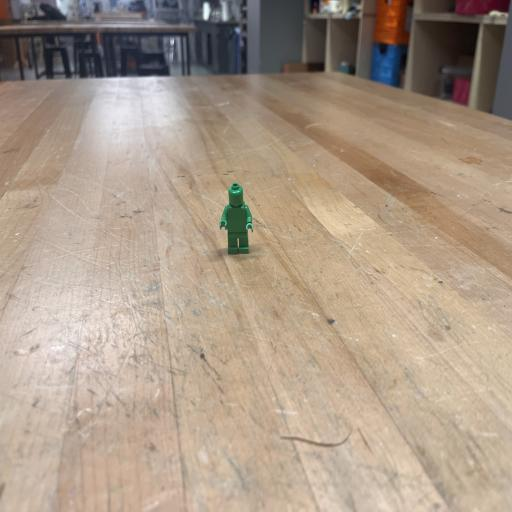Lego-Minifig: (220, 183, 253, 254)
